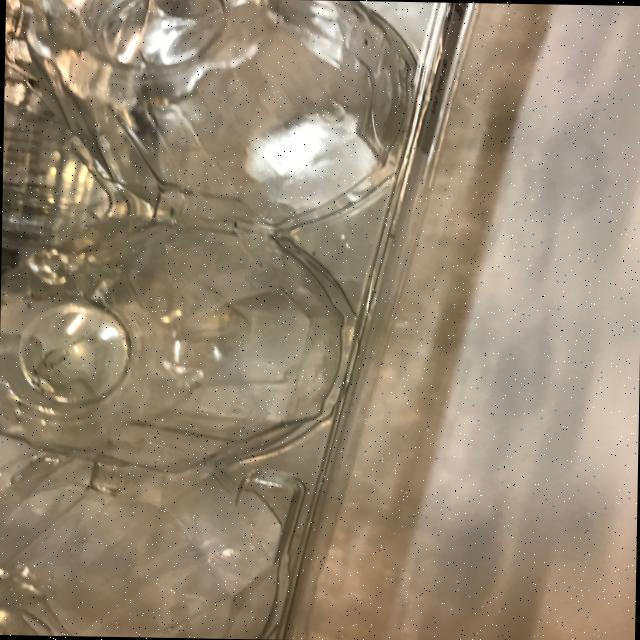plastic: (0, 0, 474, 640)
